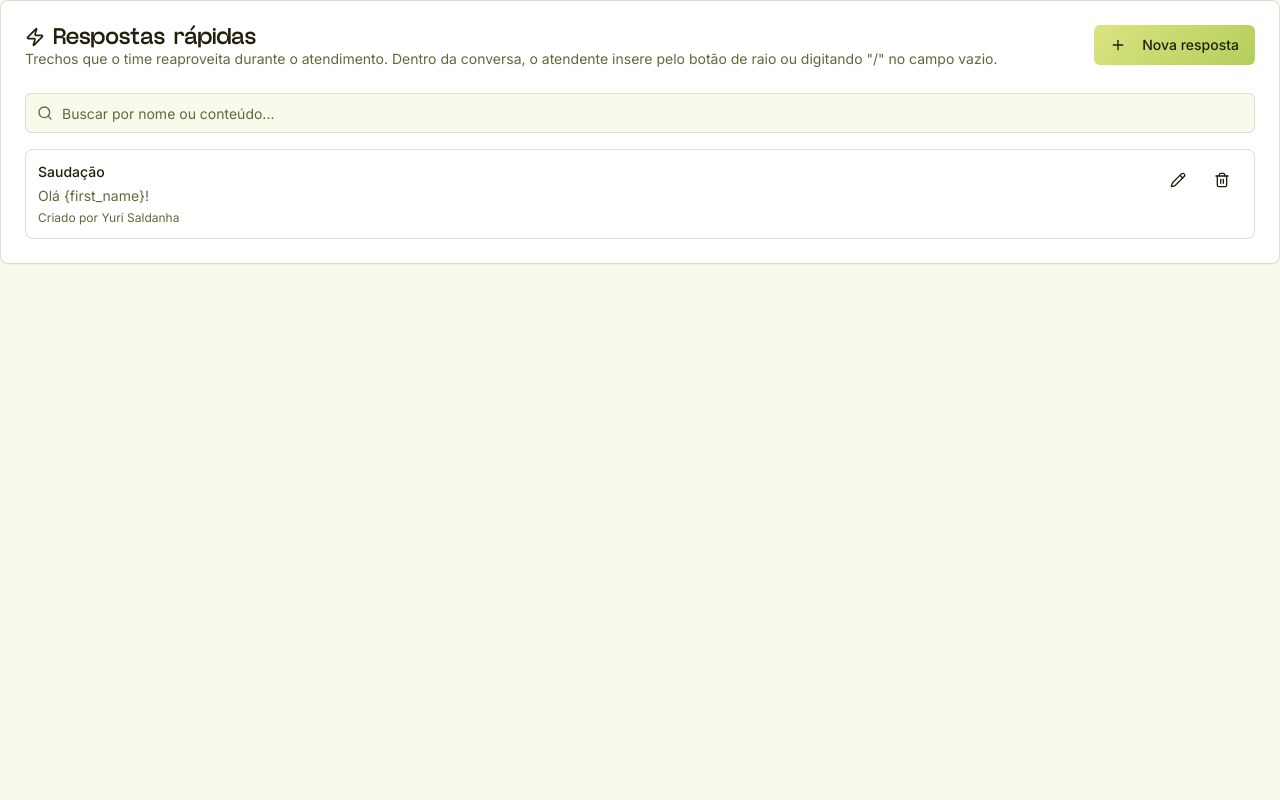
it: exclusão › pede confirmação nomeando a resposta, e não apaga antes disso
Click the button named "Excluir Saudação".
click(1222, 180)  # box [1202, 162, 1242, 198]
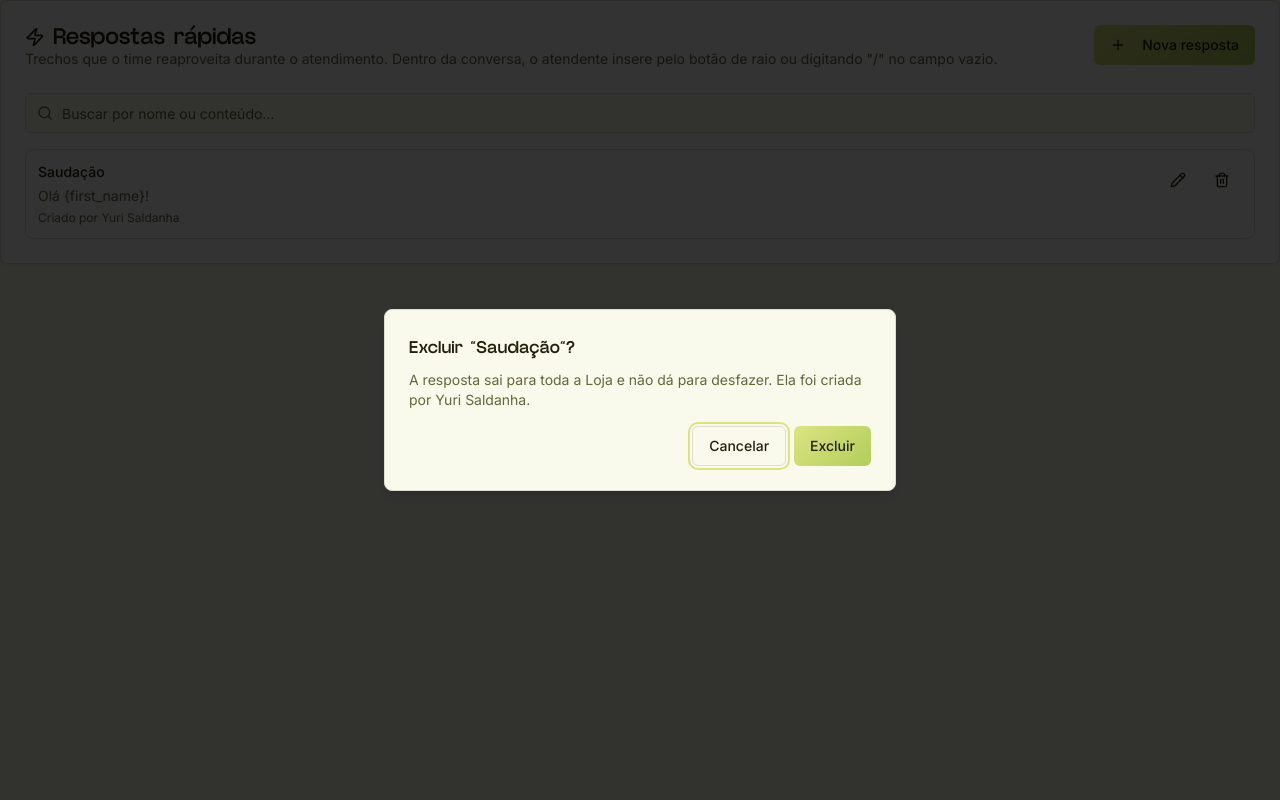
Check: the heading "Excluir \"Saudação\"?" is shown, box [409, 335, 575, 360]
